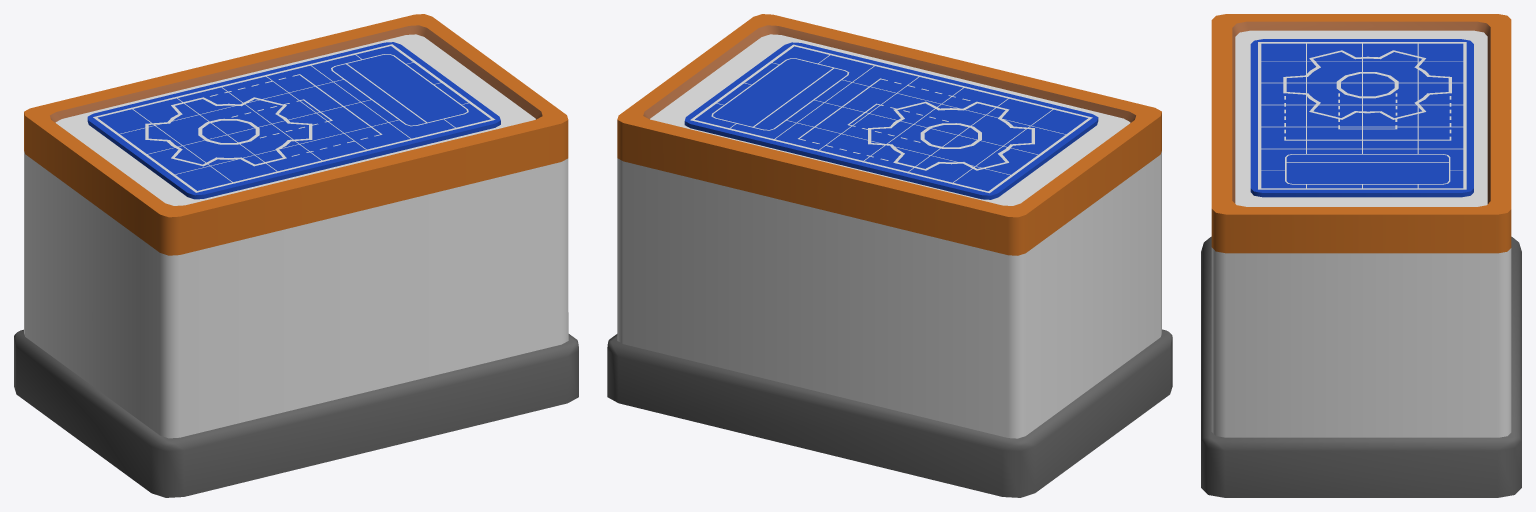
Rendered from Lv2-Factory-Mat.fbx.
The picture shows the model from 3 angles, left to right: view 1: azimuth 30°, elevation 25°; view 2: azimuth 150°, elevation 25°; view 3: azimuth 270°, elevation 25°; orthographic projection.
Parts seen in each view (by area): view 1: Blueprint-Factory; view 2: Blueprint-Factory; view 3: Blueprint-Factory.
Boxes of the visible parts, x1,y1,x2,y2 form: Blueprint-Factory: [14, 14, 578, 497]; Blueprint-Factory: [607, 14, 1172, 497]; Blueprint-Factory: [1201, 14, 1521, 497].
Size of the model in its own units: 7.17 by 4.45 by 4.64.
